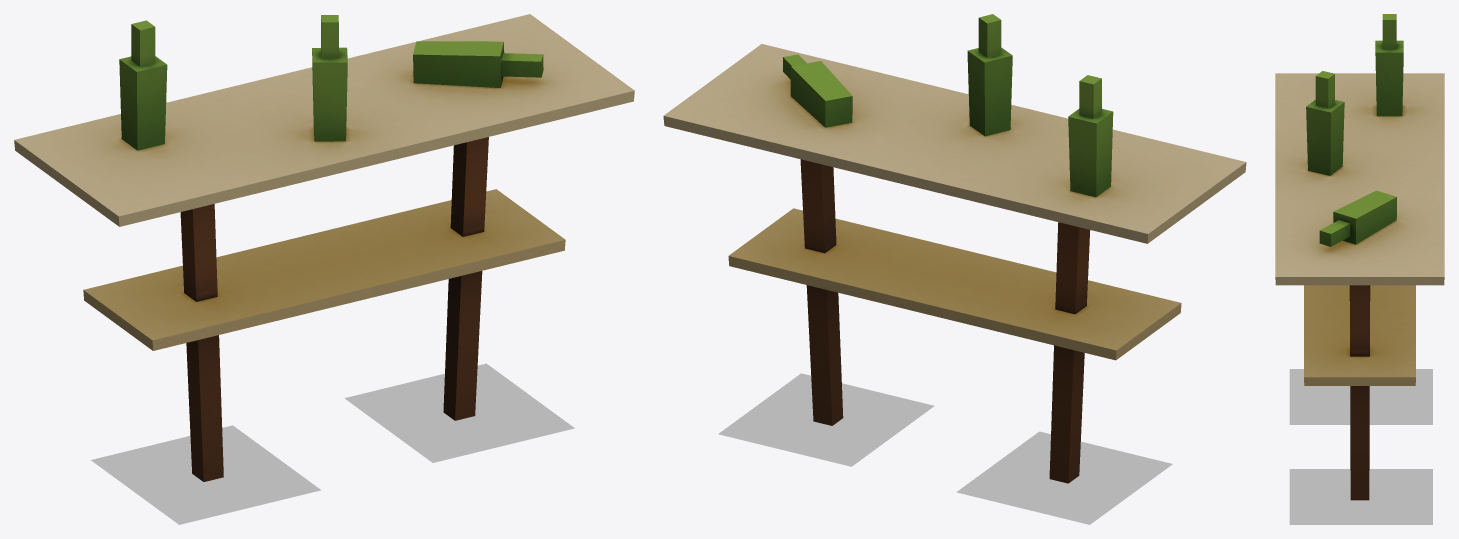
Rendered from 2x1_counter.FBX.
3 views of the same model, side by side, from view 1: azimuth 30°, elevation 25°; view 2: azimuth 150°, elevation 25°; view 3: azimuth 270°, elevation 25° (orthographic). The views are drawn at different scales.
Parts seen in each view (by area): view 1: 2x1_counter, 2x1_counter_soft_shadow; view 2: 2x1_counter, 2x1_counter_soft_shadow; view 3: 2x1_counter, 2x1_counter_soft_shadow.
Part boxes in pixels (<box>): 2x1_counter: <box>14,14,634,481</box>; 2x1_counter_soft_shadow: <box>91,363,574,524</box>; 2x1_counter: <box>663,14,1246,483</box>; 2x1_counter_soft_shadow: <box>718,373,1172,524</box>; 2x1_counter: <box>1275,14,1444,500</box>; 2x1_counter_soft_shadow: <box>1289,369,1432,524</box>.
Size of the model in its own units: 2035 by 1700 by 715.
